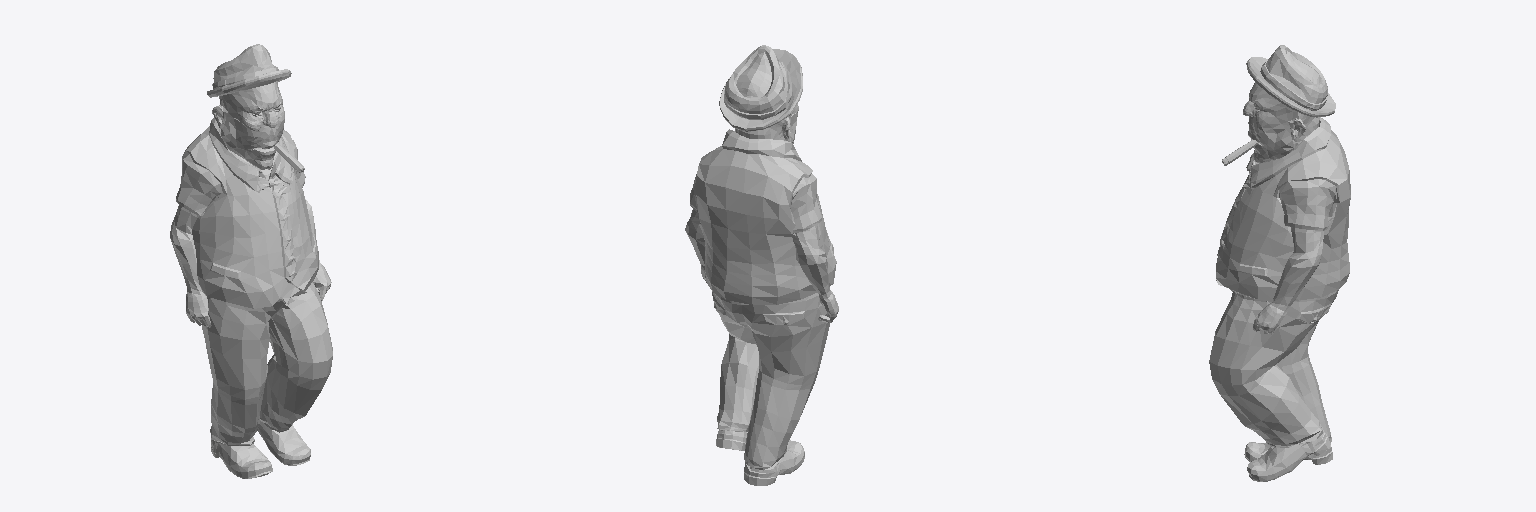
File: walk0002.obj
The picture shows the model from 3 angles: view 1: azimuth 30°, elevation 25°; view 2: azimuth 150°, elevation 25°; view 3: azimuth 270°, elevation 25°; orthographic projection.
Visible parts, largest first — view 1: mixamorig:Jacket_Geo, mixamorig:Pants_Geo, mixamorig:Head_Geo, mixamorig:Shoes_Geo, mixamorig:Arms_Geo, mixamorig:Hat_Geo; view 2: mixamorig:Jacket_Geo, mixamorig:Pants_Geo, mixamorig:Hat_Geo, mixamorig:Arms_Geo, mixamorig:Shoes_Geo, mixamorig:Head_Geo; view 3: mixamorig:Jacket_Geo, mixamorig:Pants_Geo, mixamorig:Hat_Geo, mixamorig:Head_Geo, mixamorig:Arms_Geo, mixamorig:Shoes_Geo.
Boxes of the visible parts, <box> form: mixamorig:Jacket_Geo: <box>176,117,318,308</box>; mixamorig:Pants_Geo: <box>202,282,332,445</box>; mixamorig:Head_Geo: <box>212,81,284,179</box>; mixamorig:Shoes_Geo: <box>211,421,310,478</box>; mixamorig:Arms_Geo: <box>170,199,331,327</box>; mixamorig:Hat_Geo: <box>207,44,291,97</box>; mixamorig:Jacket_Geo: <box>690,129,836,304</box>; mixamorig:Pants_Geo: <box>712,292,829,470</box>; mixamorig:Hat_Geo: <box>719,45,802,131</box>; mixamorig:Arms_Geo: <box>685,209,838,322</box>; mixamorig:Shoes_Geo: <box>716,430,804,485</box>; mixamorig:Head_Geo: <box>735,104,798,143</box>; mixamorig:Jacket_Geo: <box>1216,117,1350,301</box>; mixamorig:Pants_Geo: <box>1209,289,1338,447</box>; mixamorig:Hat_Geo: <box>1246,45,1335,117</box>; mixamorig:Head_Geo: <box>1243,82,1319,163</box>; mixamorig:Arms_Geo: <box>1253,227,1323,334</box>; mixamorig:Shoes_Geo: <box>1244,430,1332,481</box>.
Bounding box in the file's own units: 0.6845 × 1.98 × 0.6051.